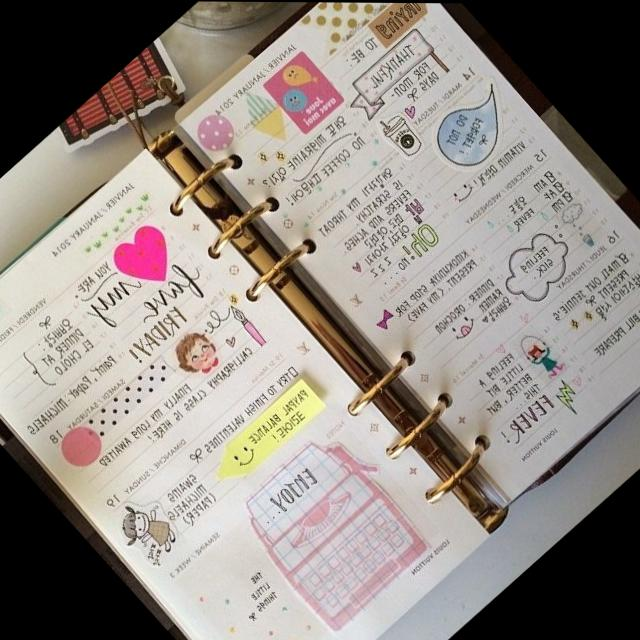paper: (148, 0, 639, 639), (0, 126, 436, 639), (318, 85, 639, 496)
